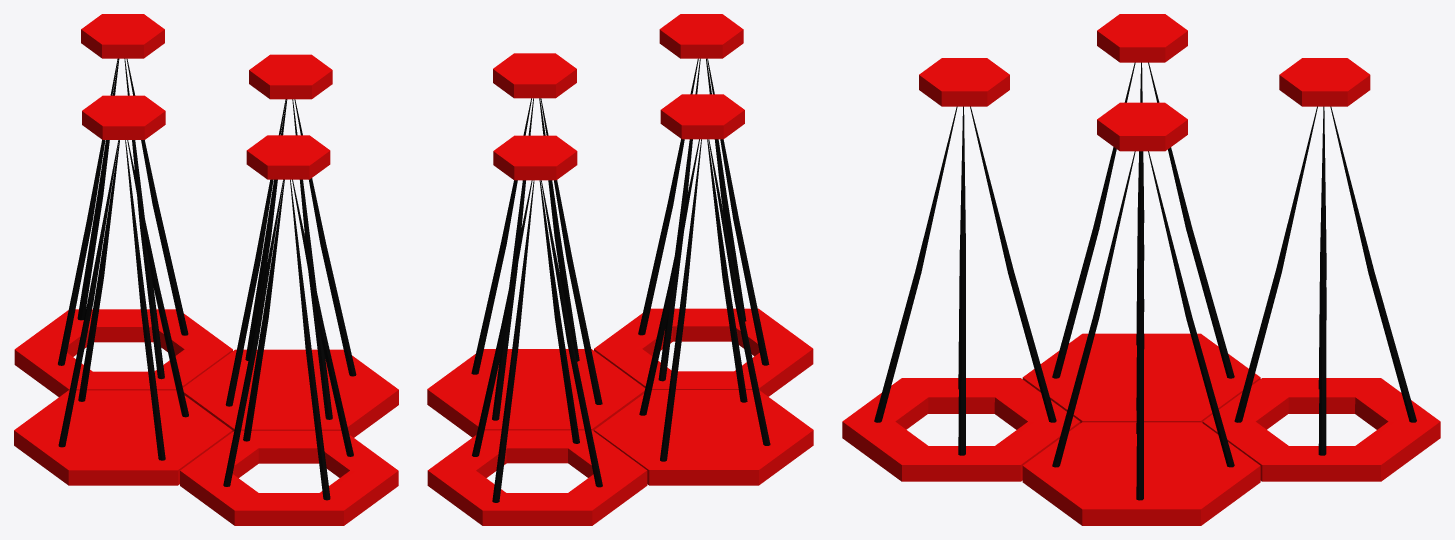
Rendered from HangingFuturelamp6.fbx.
3 views of the same model, side by side, from view 1: azimuth 30°, elevation 25°; view 2: azimuth 150°, elevation 25°; view 3: azimuth 270°, elevation 25° (orthographic). The views are drawn at different scales.
Parts seen in each view (by area): view 1: Cylinder.003; view 2: Cylinder.003; view 3: Cylinder.003.
Part boxes in pixels (x1=…): Cylinder.003: x1=14, y1=14, x2=398, y2=525; Cylinder.003: x1=427, y1=14, x2=813, y2=525; Cylinder.003: x1=842, y1=14, x2=1440, y2=525.
Bounding box in the file's own units: 238 × 165 × 160.
